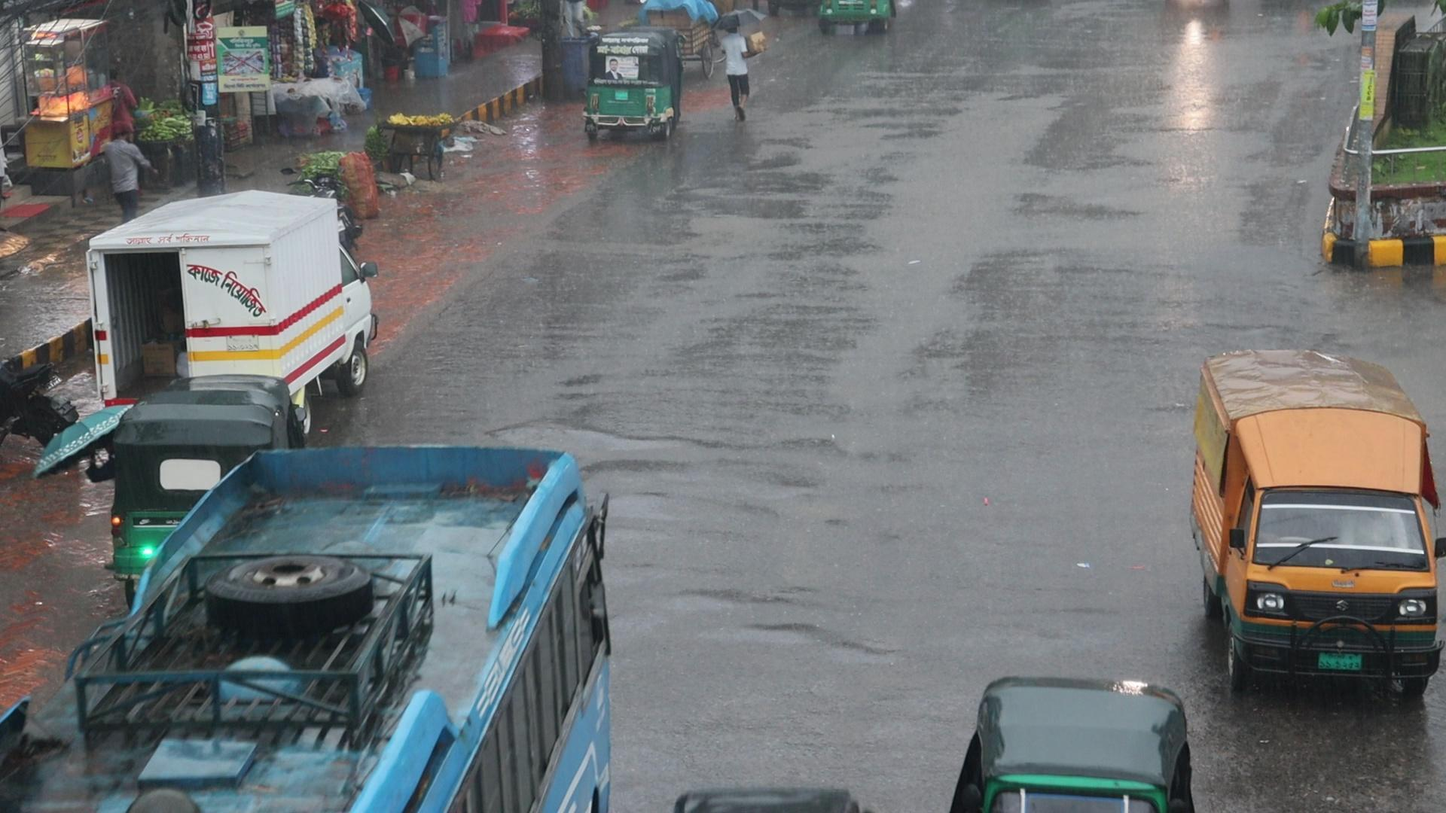Truck: (1187, 344, 1446, 706)
